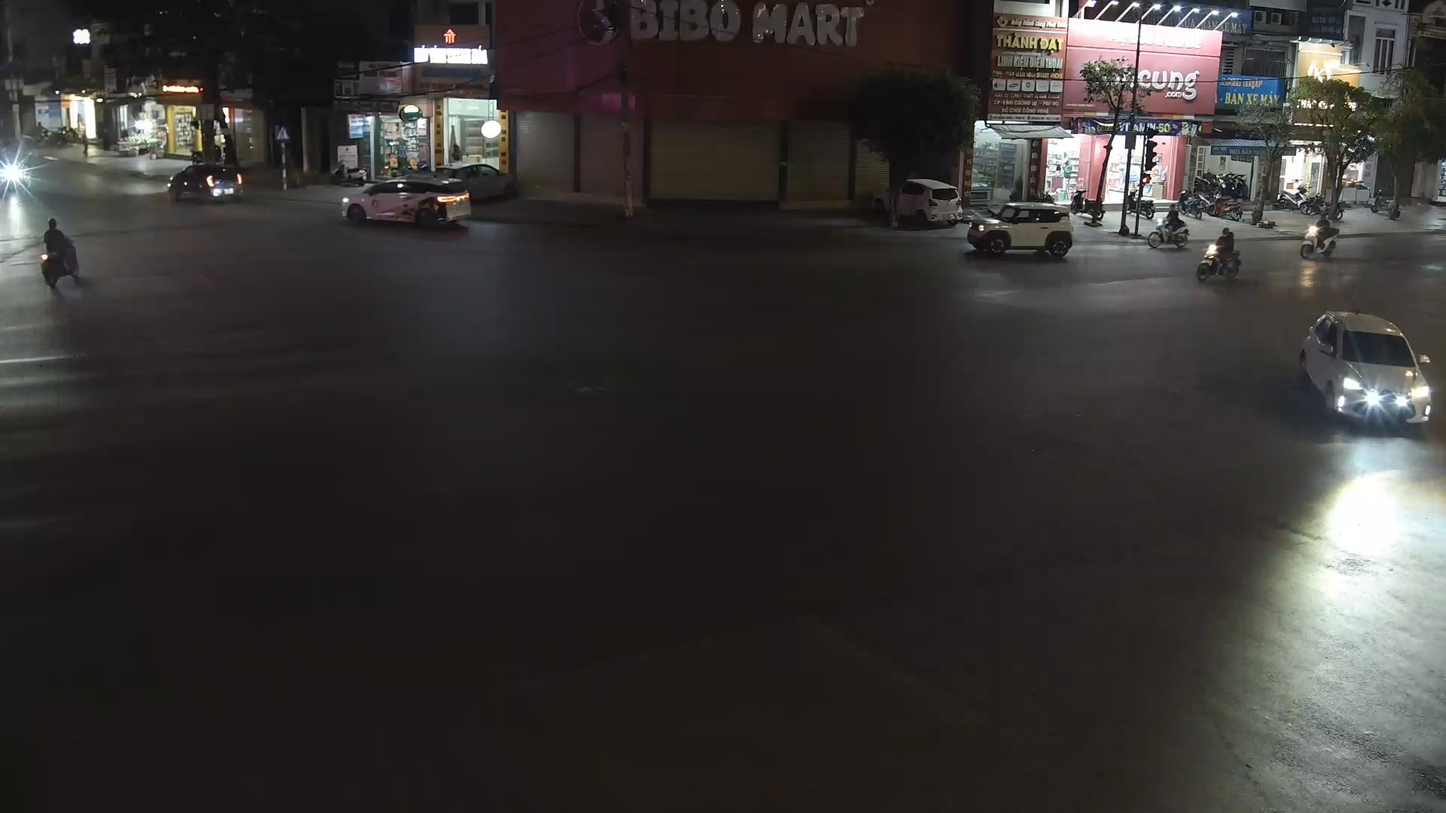car: (1297, 308, 1433, 429), (339, 169, 472, 231), (961, 203, 1075, 262), (879, 175, 962, 230)
motorbike: (37, 215, 84, 293), (1194, 224, 1243, 285)
